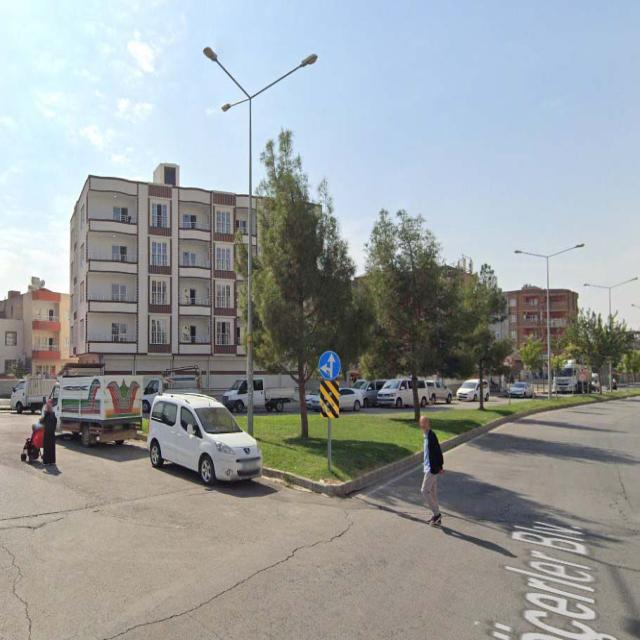ilerisol: (318, 351, 341, 378)
